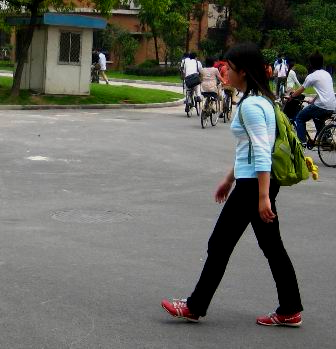pedestrian: (162, 42, 318, 327)
